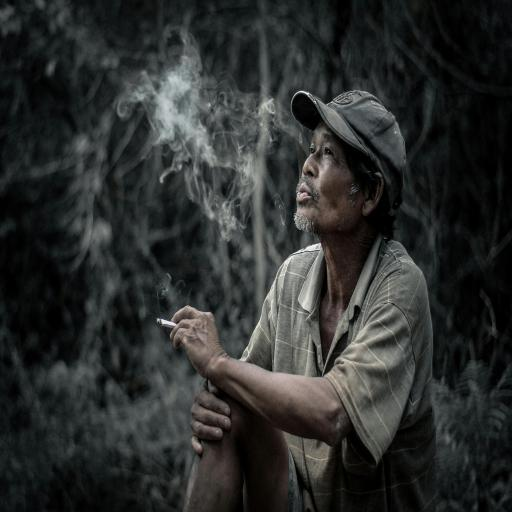terdeteksi pegang rokok: (153, 271, 217, 396)
